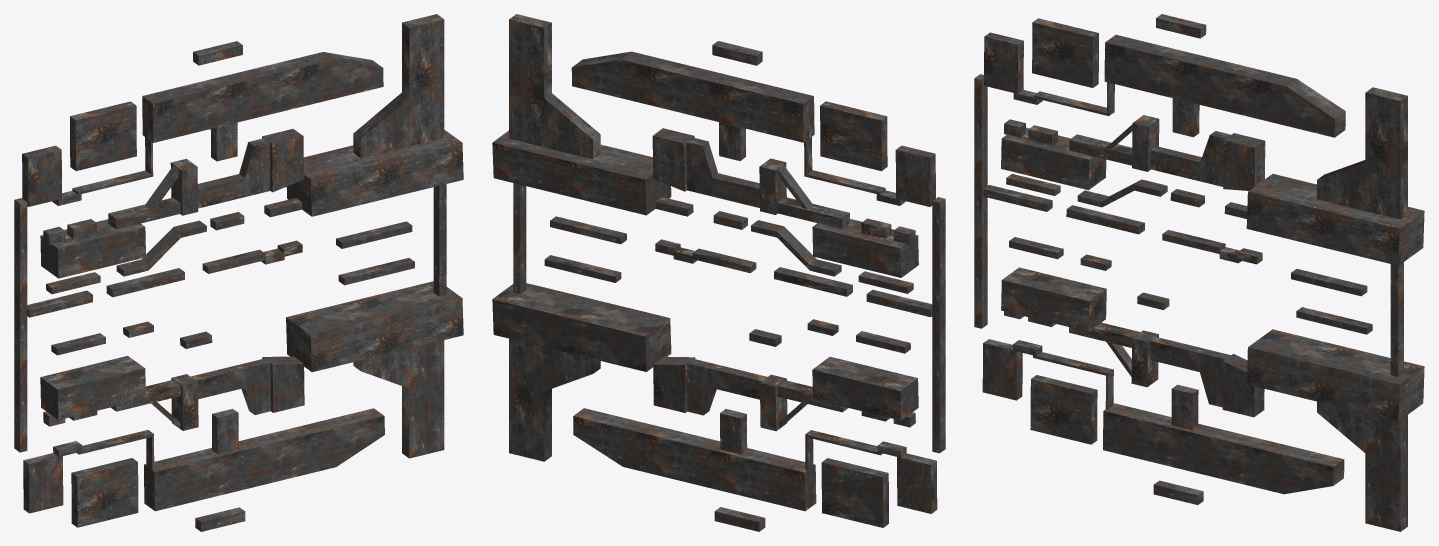
Rendered from level_fixed_withUvs.fbx.
3 views of the same model, side by side, from view 1: azimuth 30°, elevation 25°; view 2: azimuth 150°, elevation 25°; view 3: azimuth 330°, elevation 25° (orthographic).
Visible parts, largest first — view 1: polySurface295; view 2: polySurface295; view 3: polySurface295.
Part boxes in pixels (box(x1,y1,x2,y2)): polySurface295: box(14, 14, 463, 531); polySurface295: box(492, 14, 945, 531); polySurface295: box(974, 14, 1424, 531).
Bounding box in the file's own units: 538 × 563 × 55.85.
